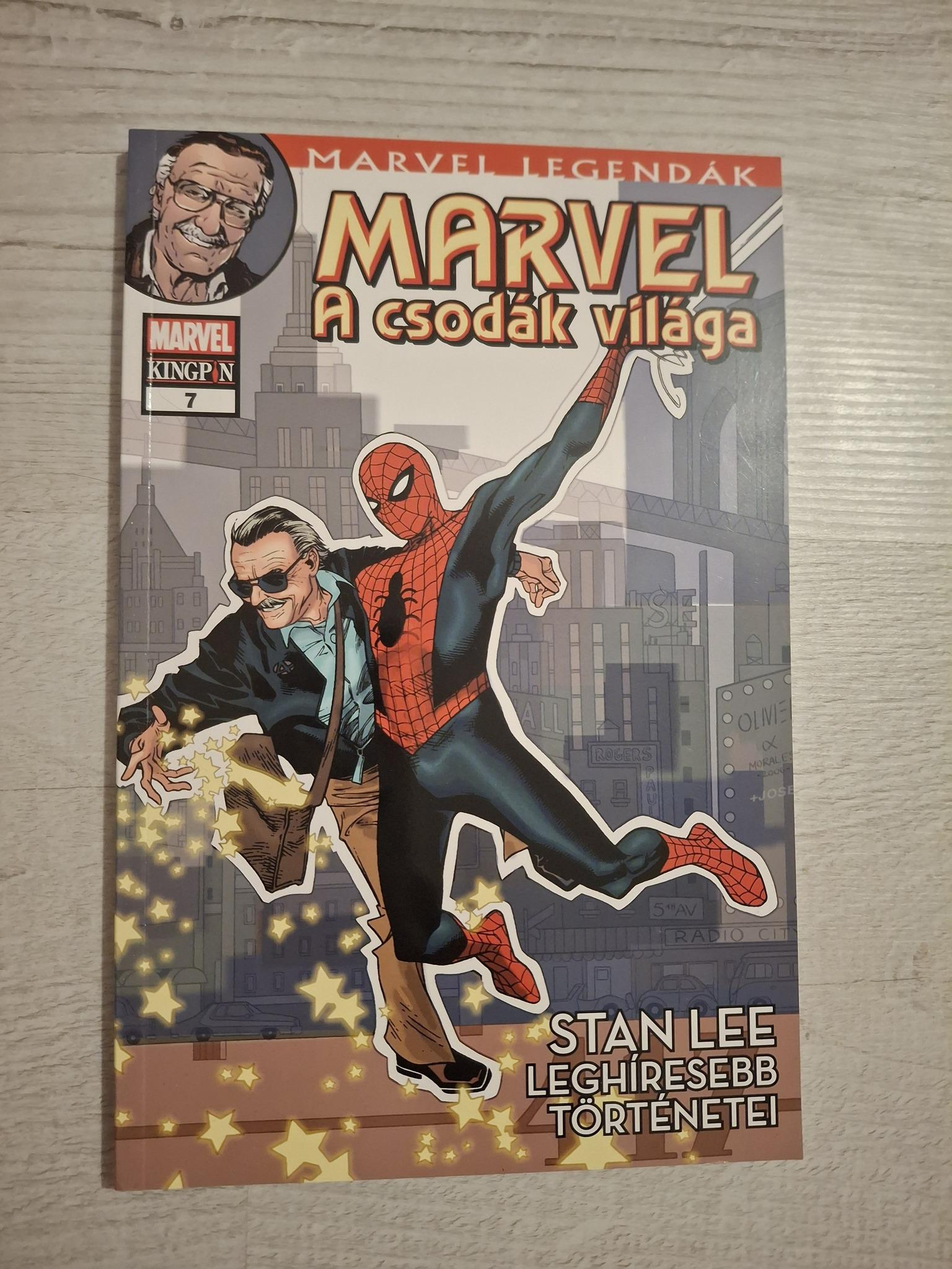comic: (100, 122, 800, 1189)
